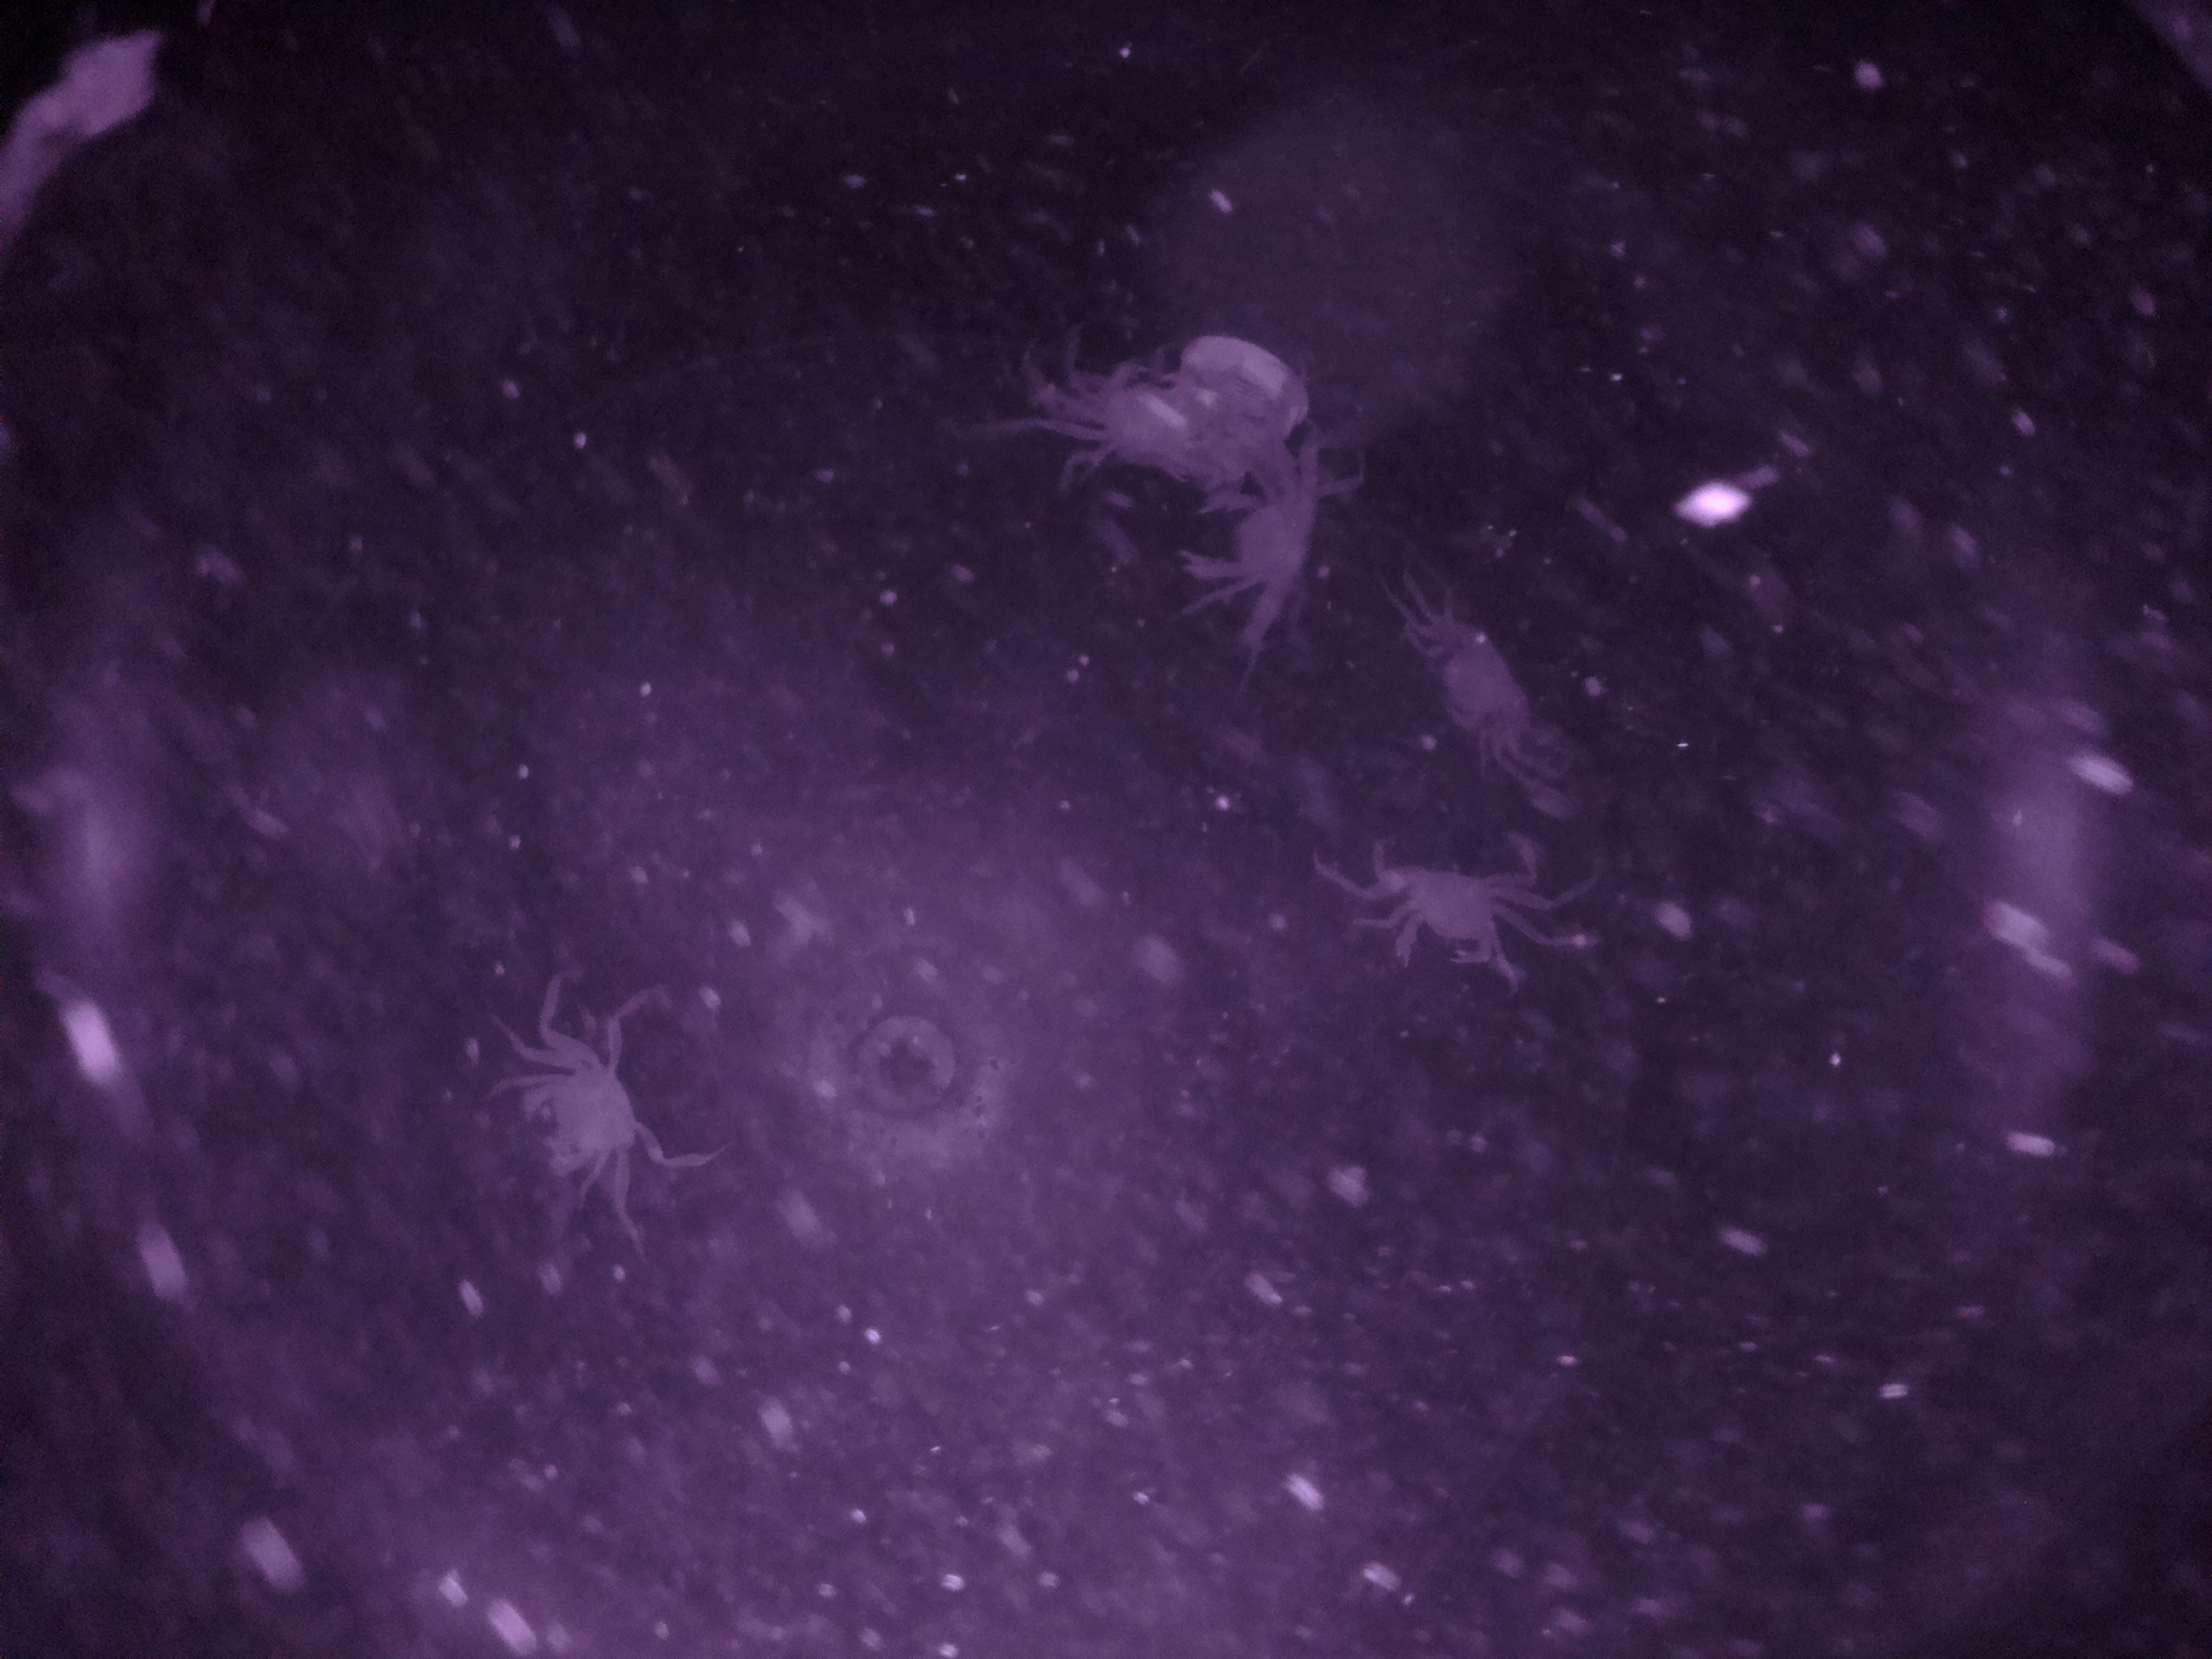Crab: (1400, 580, 1580, 791), (509, 1007, 662, 1209), (1343, 854, 1552, 983)
